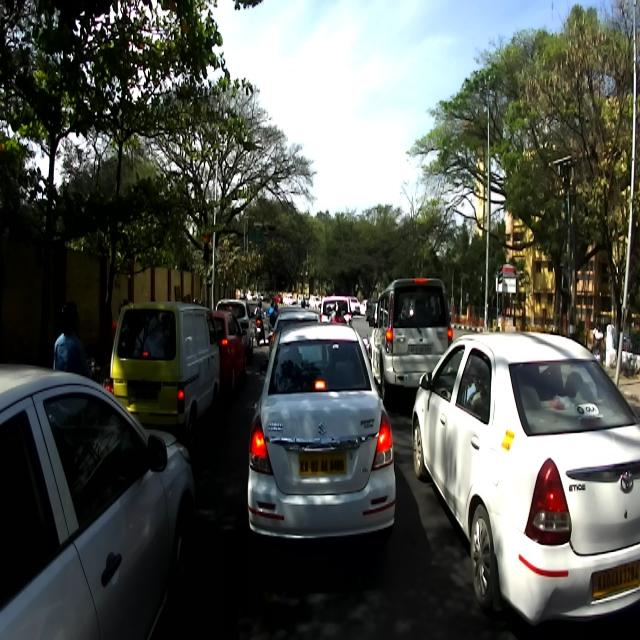car: (410, 330, 640, 639), (0, 366, 197, 639), (246, 321, 396, 561), (109, 302, 223, 455), (368, 276, 454, 412)
